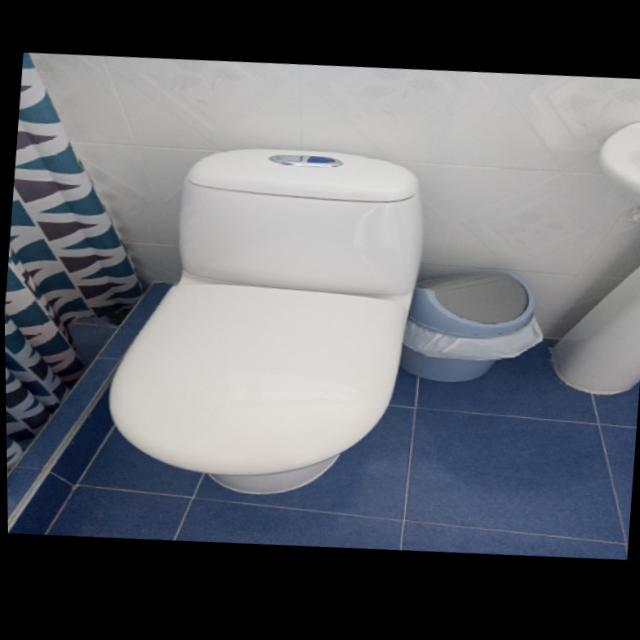toilet: (94, 131, 433, 514)
